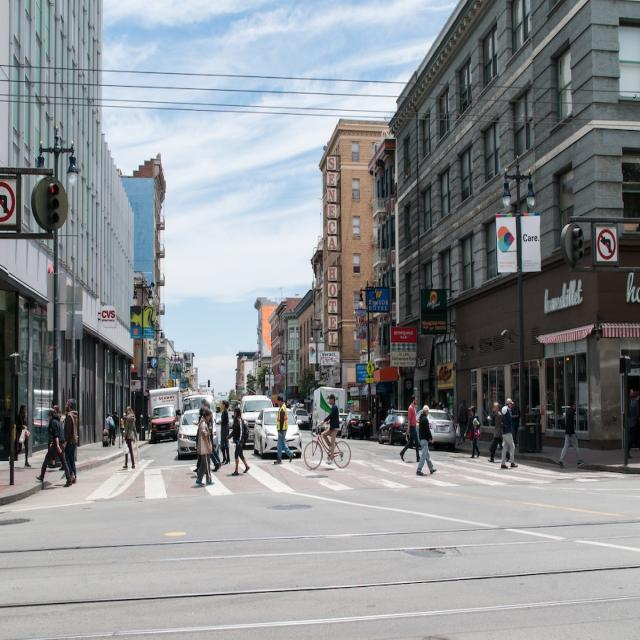body: (34, 407, 72, 487), (490, 398, 520, 470), (193, 398, 220, 473), (558, 397, 584, 468), (225, 406, 250, 476), (194, 406, 215, 486), (398, 393, 422, 462), (7, 402, 32, 468), (415, 402, 437, 476), (319, 392, 340, 464), (500, 397, 520, 469), (487, 401, 510, 463), (274, 395, 294, 465), (63, 397, 78, 484), (204, 400, 222, 470), (122, 404, 138, 468), (463, 404, 481, 458), (218, 399, 231, 466), (46, 399, 59, 463), (34, 467, 67, 489), (456, 398, 469, 446), (185, 468, 215, 488), (105, 411, 114, 447), (626, 384, 638, 406), (120, 410, 127, 444), (111, 410, 120, 436), (0, 465, 32, 472), (53, 404, 62, 419), (258, 401, 269, 411), (265, 414, 274, 426), (628, 390, 636, 402), (378, 404, 383, 420), (225, 472, 244, 476), (362, 409, 366, 415)
